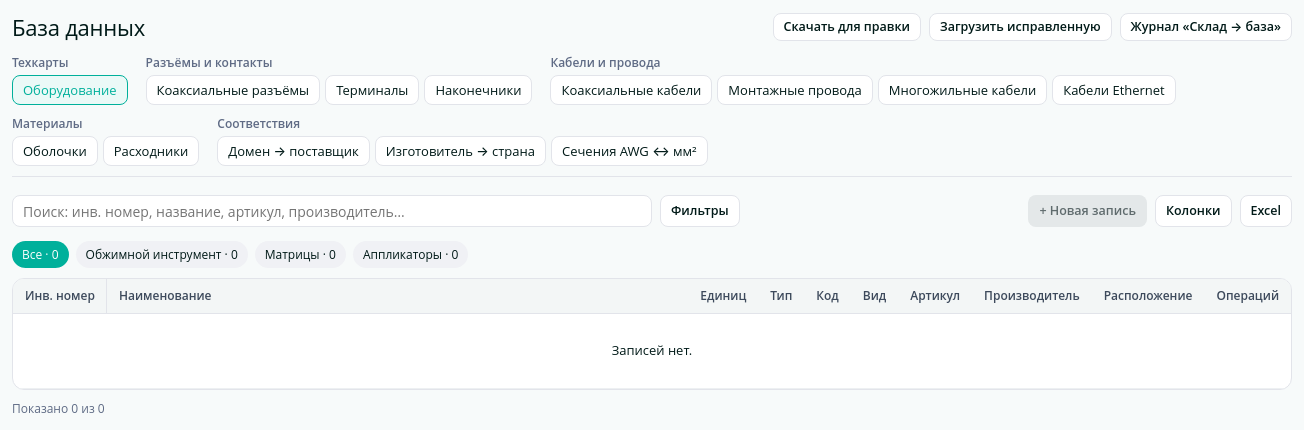
Scenario: shows the versioned technology snapshot as a table of its own columns
Click the button "Терминалы" at (372, 90), box x1=325 y1=75 x2=419 y2=105
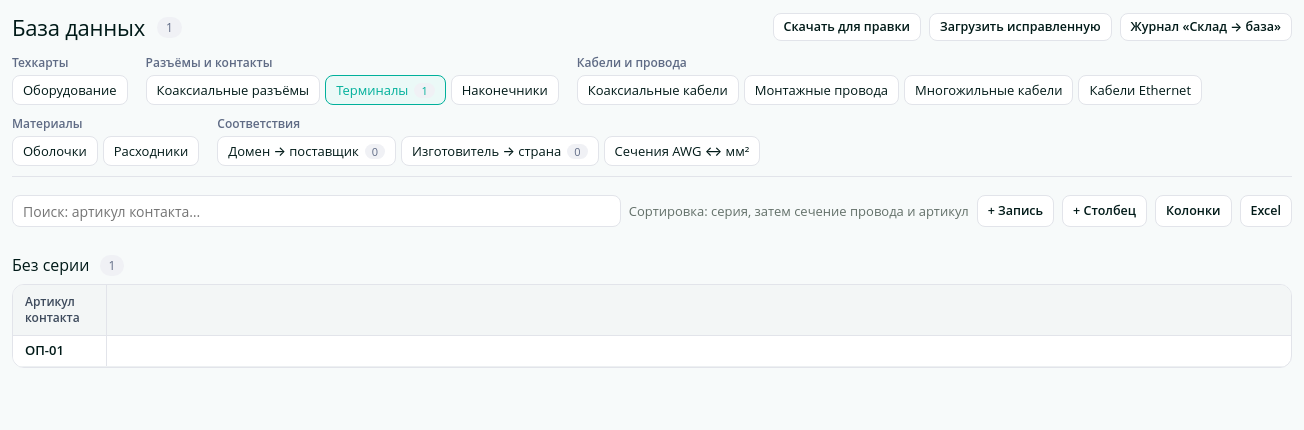
Expected: the button "Оборудование" is shown, x1=12 y1=75 x2=128 y2=105
Expected: the text "ОП-01" is shown, x1=13 y1=336 x2=106 y2=366
Expected: the column heading "Артикул контакта" is shown, x1=13 y1=285 x2=106 y2=336
